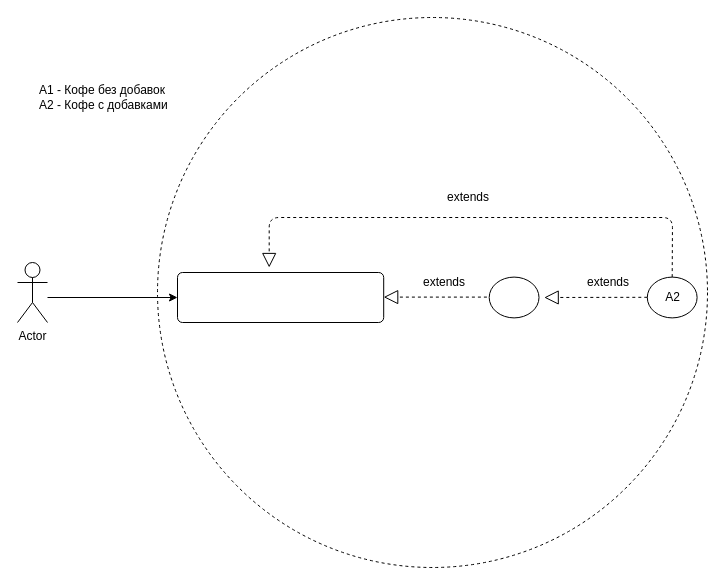
Some shapes in this 725 by 585 pixel diagram are drawn without their labels. The shapes that lost their labels are listed below. From the top down, each one's box as (x1, y1, x2, y2) in pixels, then its label:
(176, 272, 384, 322): Заказать кофе
(488, 276, 539, 318): A1
